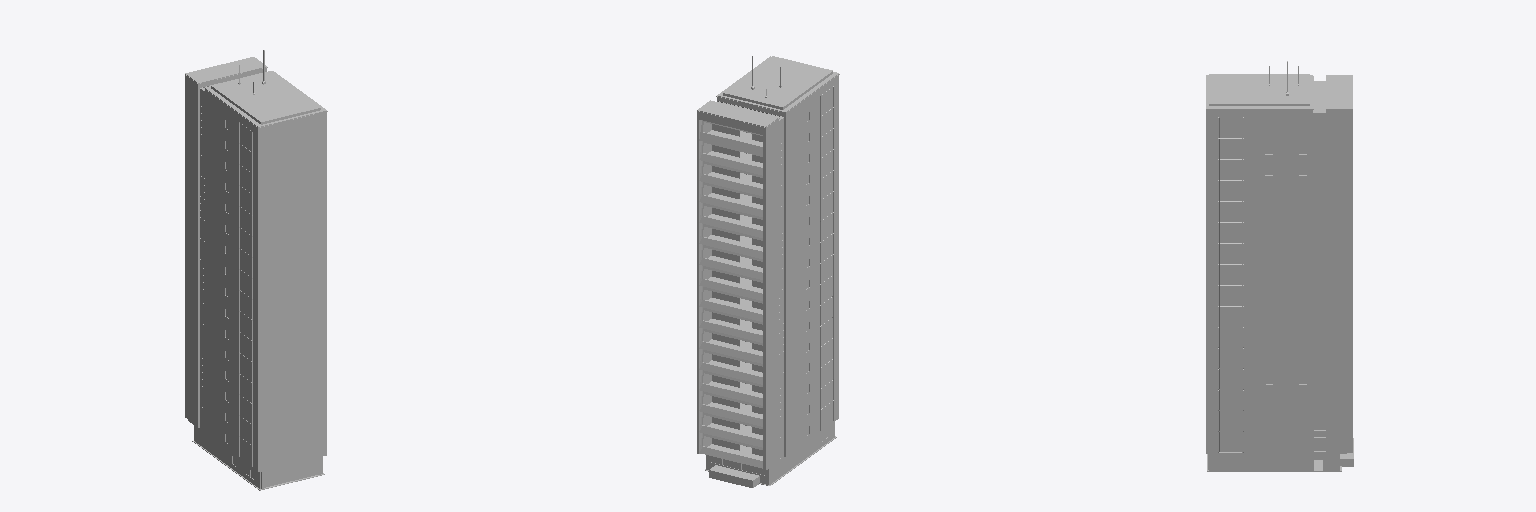
File: Residential Buildings 007.obj
3 renders of one model, left to right at view 1: azimuth 30°, elevation 25°; view 2: azimuth 150°, elevation 25°; view 3: azimuth 270°, elevation 25°, orthographic.
Parts seen in each view (by area): view 1: Residential_Buildings_007_Cube.008; view 2: Residential_Buildings_007_Cube.008; view 3: Residential_Buildings_007_Cube.008.
Boxes of the visible parts, x1=… form: Residential_Buildings_007_Cube.008: x1=185, y1=50, x2=327, y2=490; Residential_Buildings_007_Cube.008: x1=697, y1=56, x2=839, y2=487; Residential_Buildings_007_Cube.008: x1=1206, y1=61, x2=1353, y2=471.
Bounding box in the file's own units: 12.59 × 68.79 × 23.1.